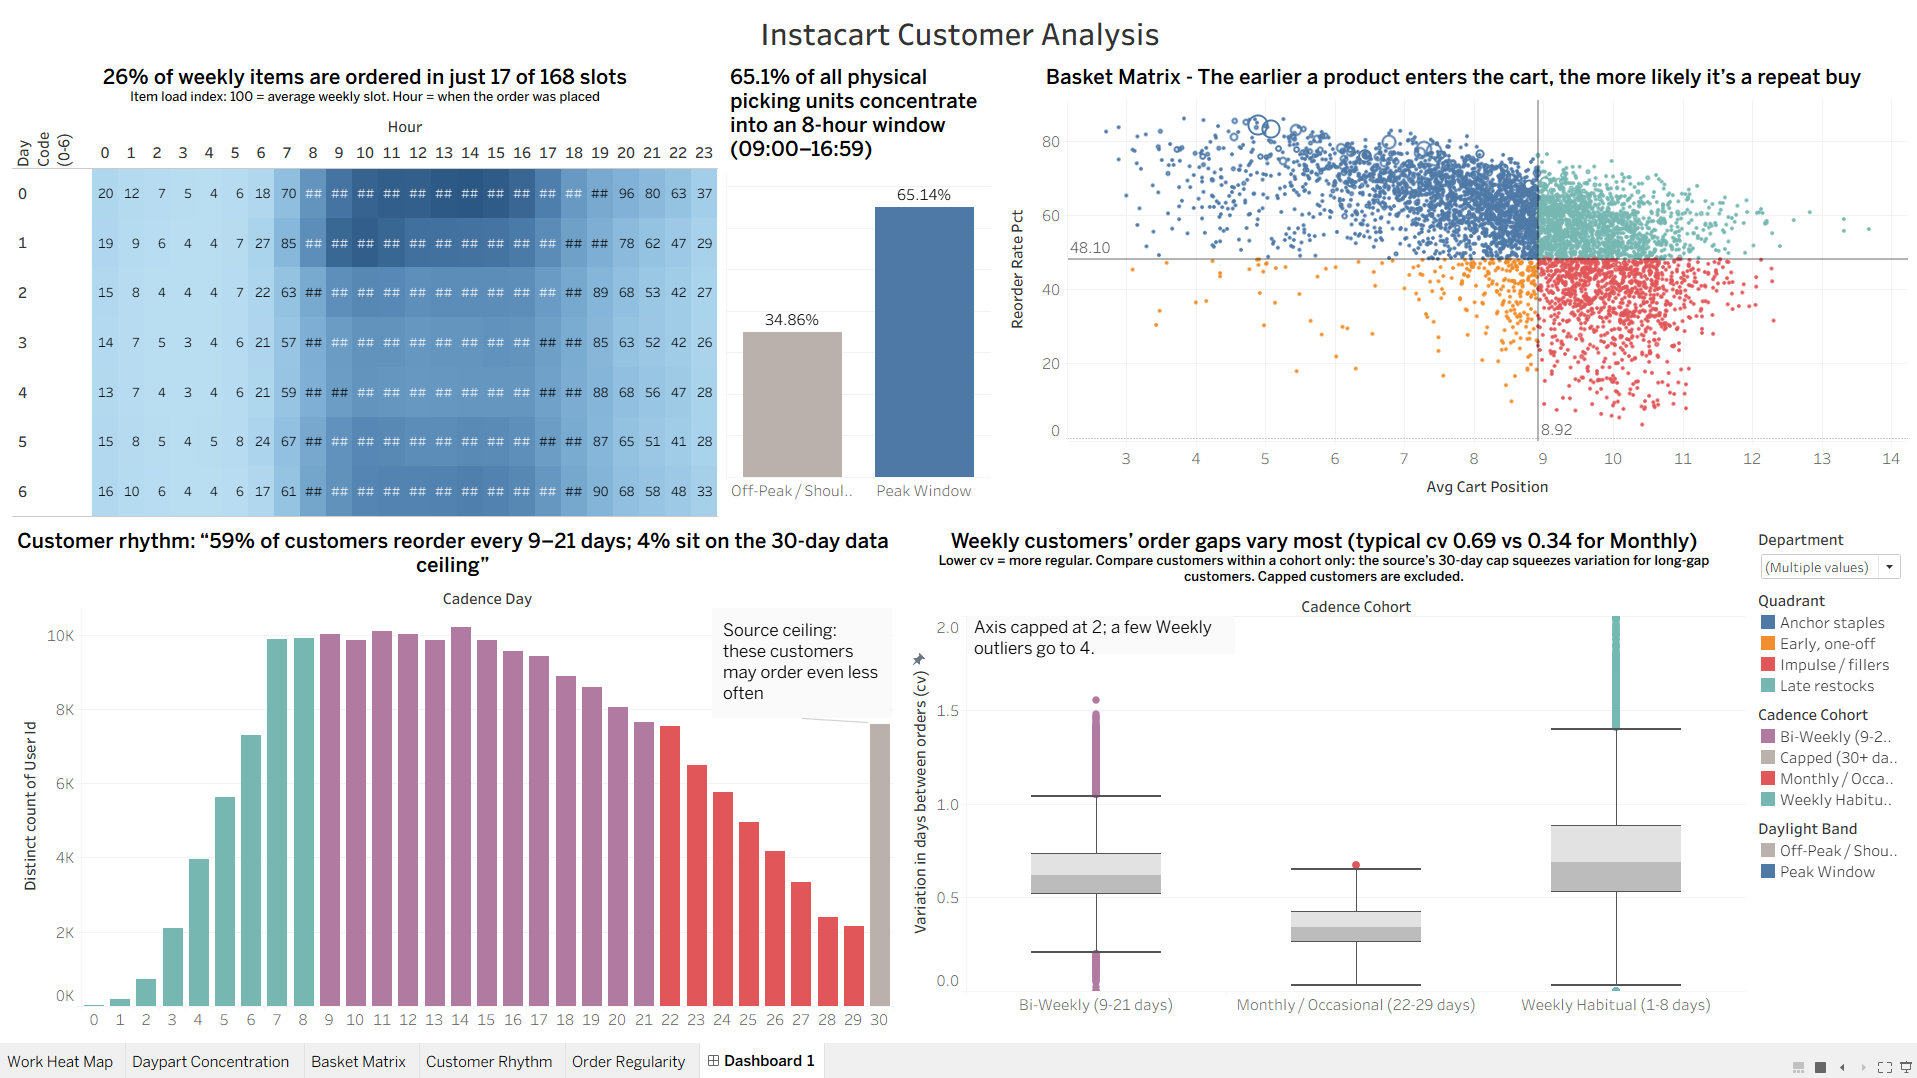

Layout of this report page (visuals, bound fields, positions):
{"tool":"tableau","page":{"name":"Market Basket & Operations Intelligence","canvas":[1000,1000],"units":"permille","ordinal":0},"visuals":[{"type":"title","box":[4.8,9.4,990.3,51.7]},{"type":"worksheet","title":"Work Heat Map","mark":"Square","rows":["order_dow"],"cols":["order_hour_of_day"],"box":[4.8,61.1,430.9,438.8]},{"type":"worksheet","title":"Daypart Concentration","mark":"Automatic","cols":["Calculation_1577313269805056"],"box":[435.7,61.1,164.8,438.8]},{"type":"worksheet","title":"Basket Matrix","mark":"Automatic","rows":["reorder_rate_pct"],"cols":["avg_cart_position"],"box":[600.5,61.1,394.7,438.8]},{"type":"worksheet","title":"Customer Rhythm","mark":"Automatic","rows":["user_id"],"cols":["cadence_day"],"box":[4.8,499.9,462.9,490.7]},{"type":"worksheet","title":"Order Regularity","mark":"Circle","rows":["cv"],"cols":["cadence_cohort"],"box":[467.7,499.9,429.7,490.7]},{"type":"filter","title":"Basket Matrix","param":"[federated.0af813z1ln8tbw0zz8t7y050bci1].[none:department:nk]","box":[899.8,504.6,93,71.7]},{"type":"legend","title":"Basket Matrix","param":"[federated.0af813z1ln8tbw0zz8t7y050bci1].[none:Calculation_2114699457572864:nk]","box":[899.8,576.3,93,134]},{"type":"legend","title":"Customer Rhythm","param":"[federated.0sz2azo0kzaiet1351iet0gcqi46].[none:cadence_cohort:nk]","box":[899.8,710.2,93,134]},{"type":"legend","title":"Daypart Concentration","param":"[federated.1u378ia0zix3ud124slg10xi1ezf].[none:Calculation_1577313269805056:nk]","box":[899.8,844.2,93,84.6]}]}

Visuals, with their boxes on the dashboard's canvas, which has no fixed pixel size, in thousandths of its width and height (x1, y1, x2, y2). These are canvas units, not pixel positions in the 1917x1078 screenshot, which may show the page scaled, cropped or inside an application window:
title: x1=5, y1=9, x2=995, y2=61
"Work Heat Map" worksheet (Square marks): x1=5, y1=61, x2=436, y2=500
"Daypart Concentration" worksheet: x1=436, y1=61, x2=600, y2=500
"Basket Matrix" worksheet: x1=600, y1=61, x2=995, y2=500
"Customer Rhythm" worksheet: x1=5, y1=500, x2=468, y2=991
"Order Regularity" worksheet (Circle marks): x1=468, y1=500, x2=897, y2=991
"Basket Matrix" filter: x1=900, y1=505, x2=993, y2=576
"Basket Matrix" legend: x1=900, y1=576, x2=993, y2=710
"Customer Rhythm" legend: x1=900, y1=710, x2=993, y2=844
"Daypart Concentration" legend: x1=900, y1=844, x2=993, y2=929
